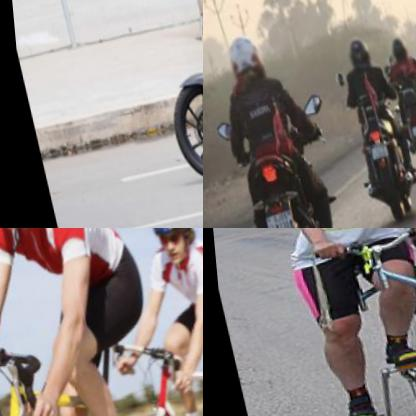With Helmet: (216, 29, 269, 92), (336, 30, 372, 80), (142, 228, 193, 251), (381, 31, 409, 72)
